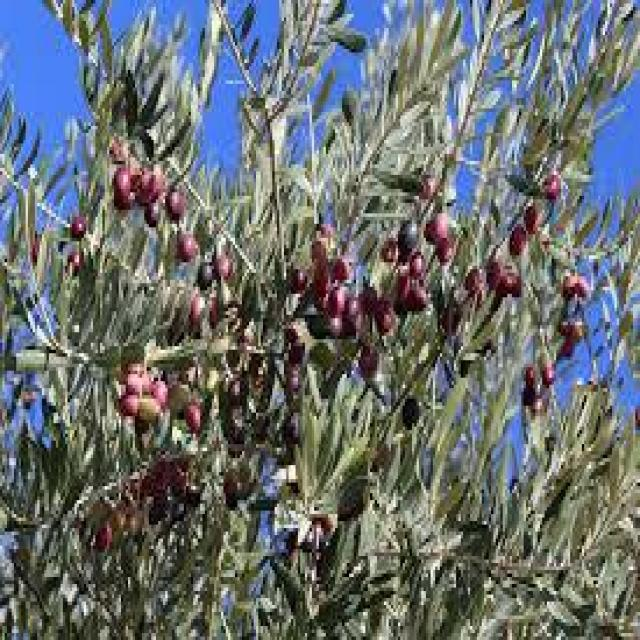Healthy: (424, 210, 447, 241), (398, 220, 417, 252), (165, 189, 184, 220), (402, 398, 420, 430), (197, 263, 211, 288), (70, 213, 84, 238)
